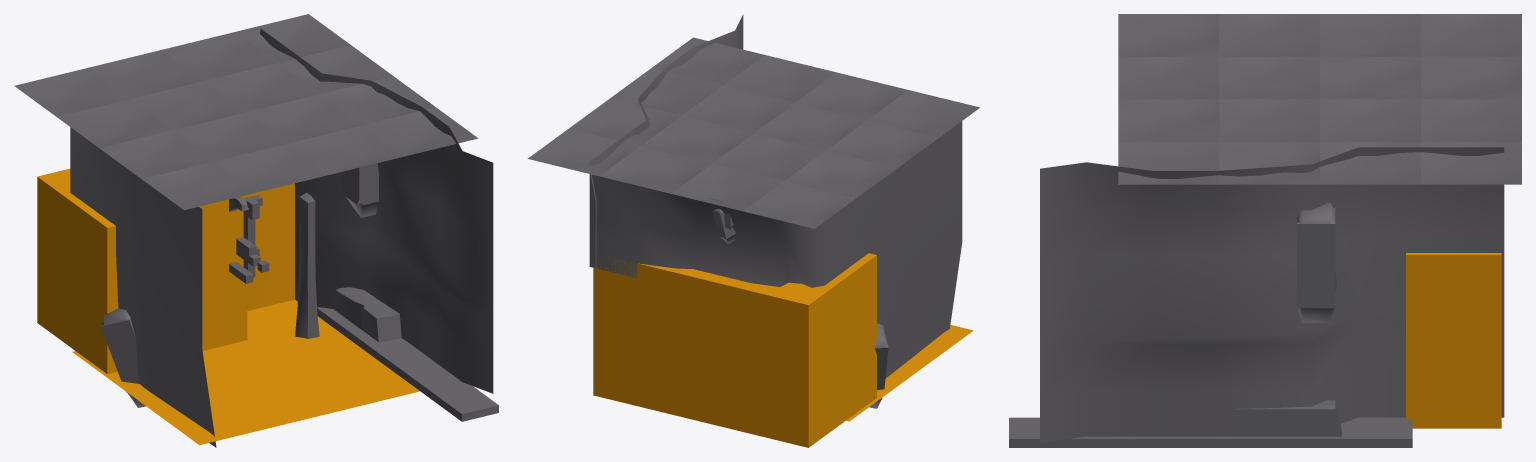
The model's file is lava_fall.fbx.
The picture shows the model from 3 angles, left to right: view 1: azimuth 30°, elevation 25°; view 2: azimuth 150°, elevation 25°; view 3: azimuth 270°, elevation 25°; orthographic projection. The views are drawn at different scales.
Visible parts, largest first — view 1: env; view 2: env; view 3: env.
Boxes of the visible parts, <box> form: env: <box>14,14,498,447</box>; env: <box>527,14,979,447</box>; env: <box>1009,14,1521,447</box>.
Bounding box in the file's own units: 40000 × 34410 × 50819.
